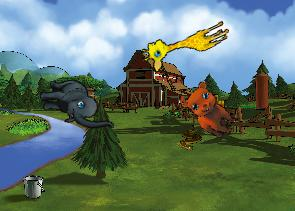bear: (176, 77, 246, 142)
elephant: (37, 73, 114, 138)
giraffe: (138, 9, 232, 75)
